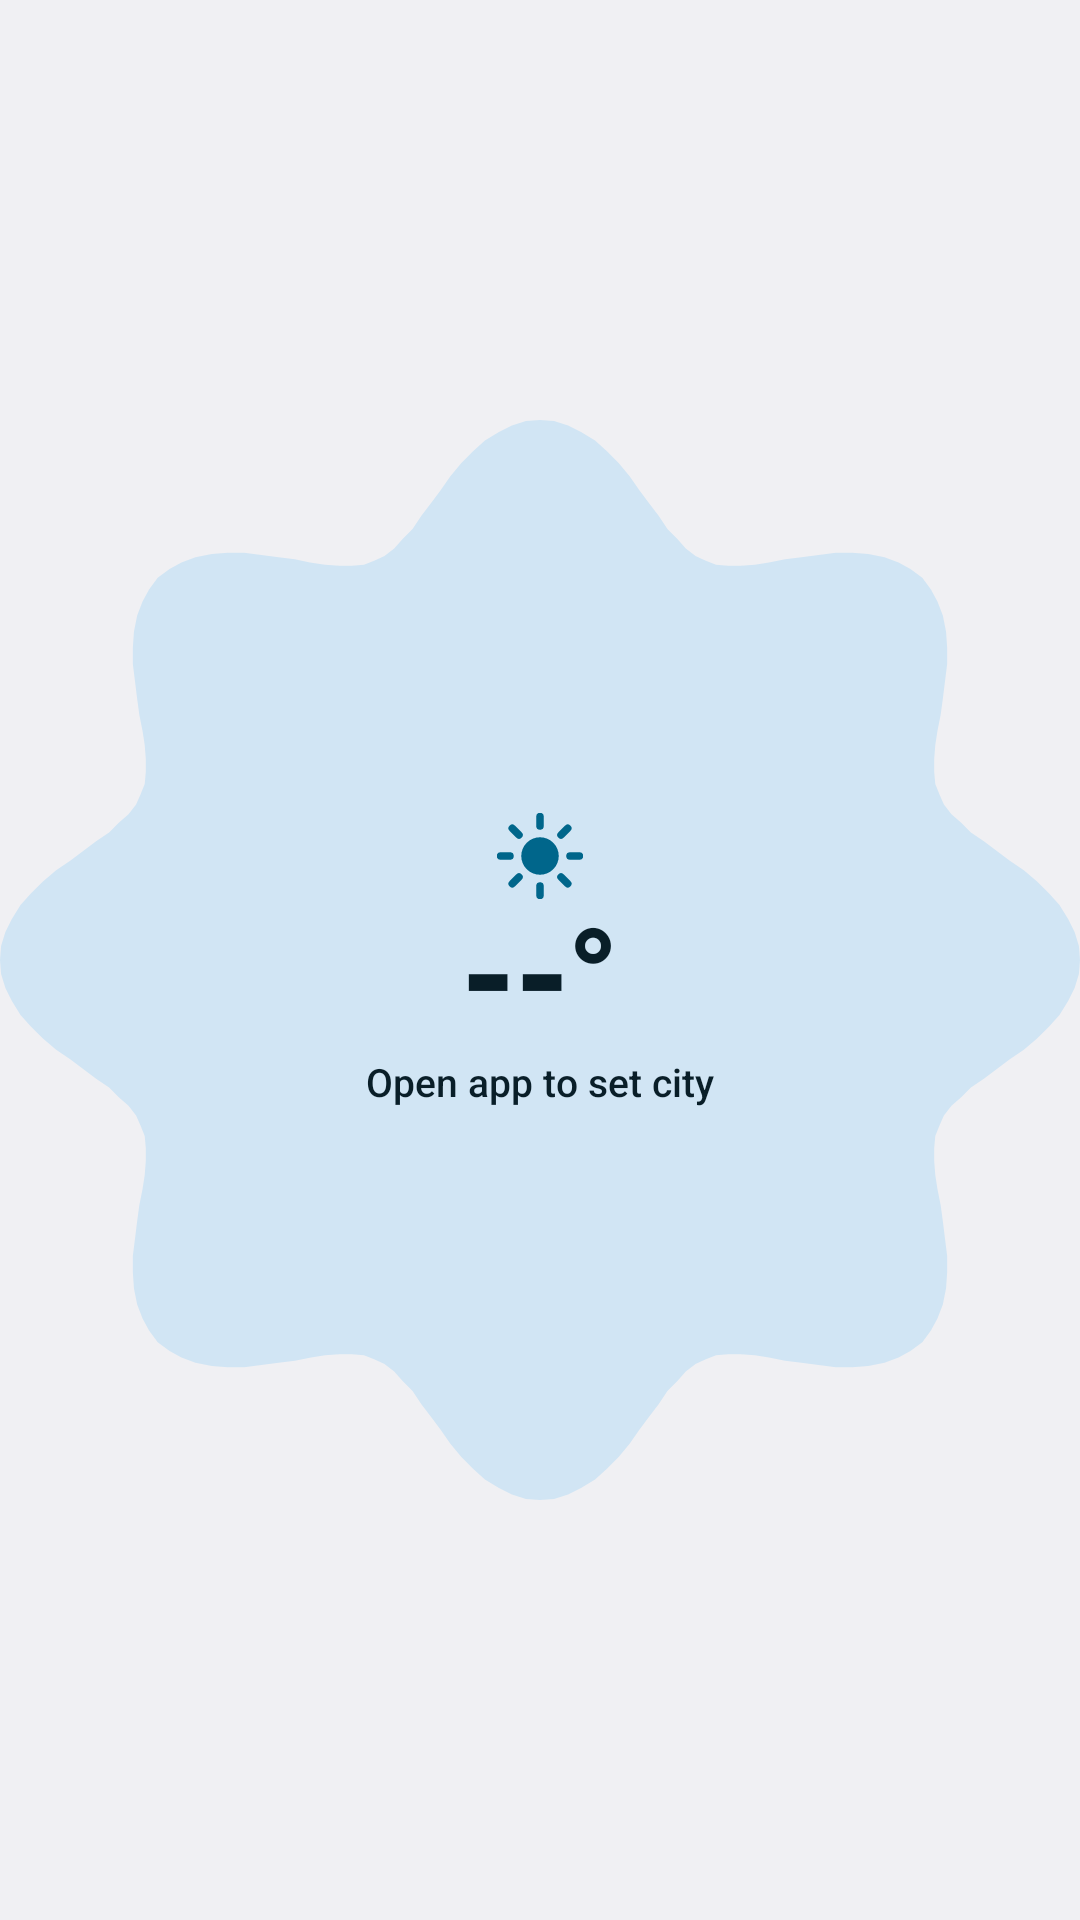

Named icons in this screenshot (1080x1920) and their bounding boxes, (x1, y1, x2, y2):
sun: (497, 813, 583, 899)
